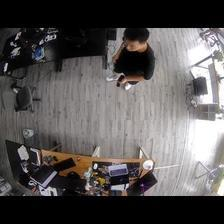normal: (106, 29, 155, 92)
